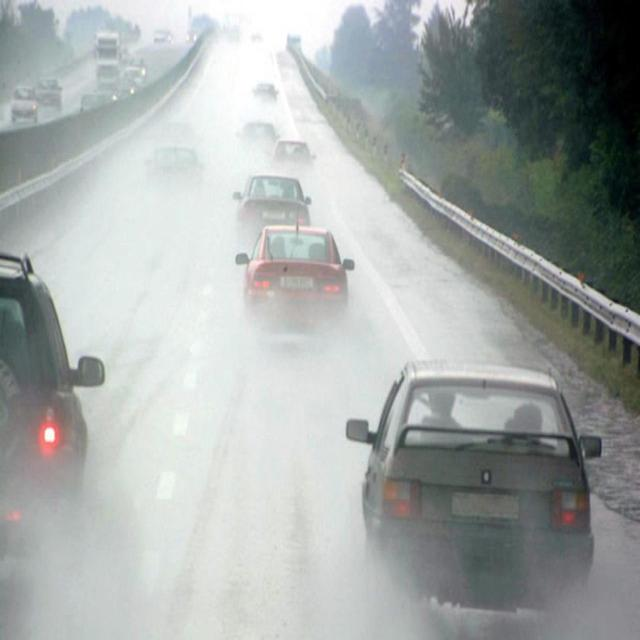Car: (342, 363, 601, 607), (0, 245, 108, 570), (234, 220, 356, 335), (230, 176, 315, 223), (271, 139, 318, 178)
